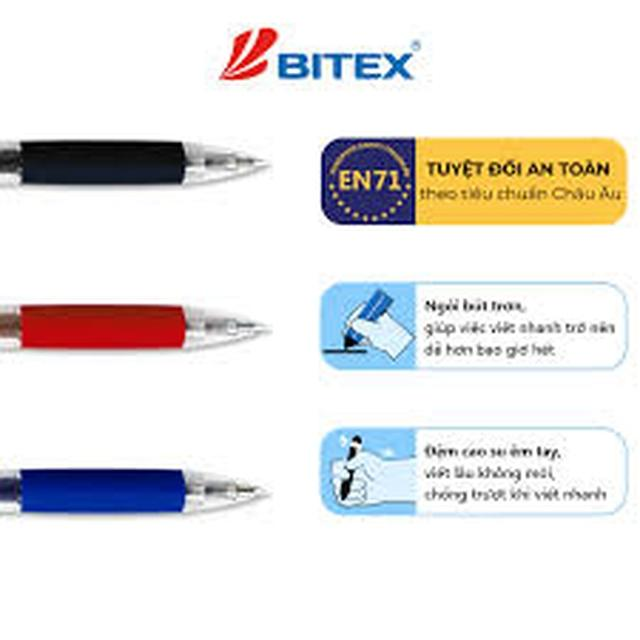pen: (0, 444, 288, 542), (0, 284, 284, 367), (0, 133, 290, 196)
